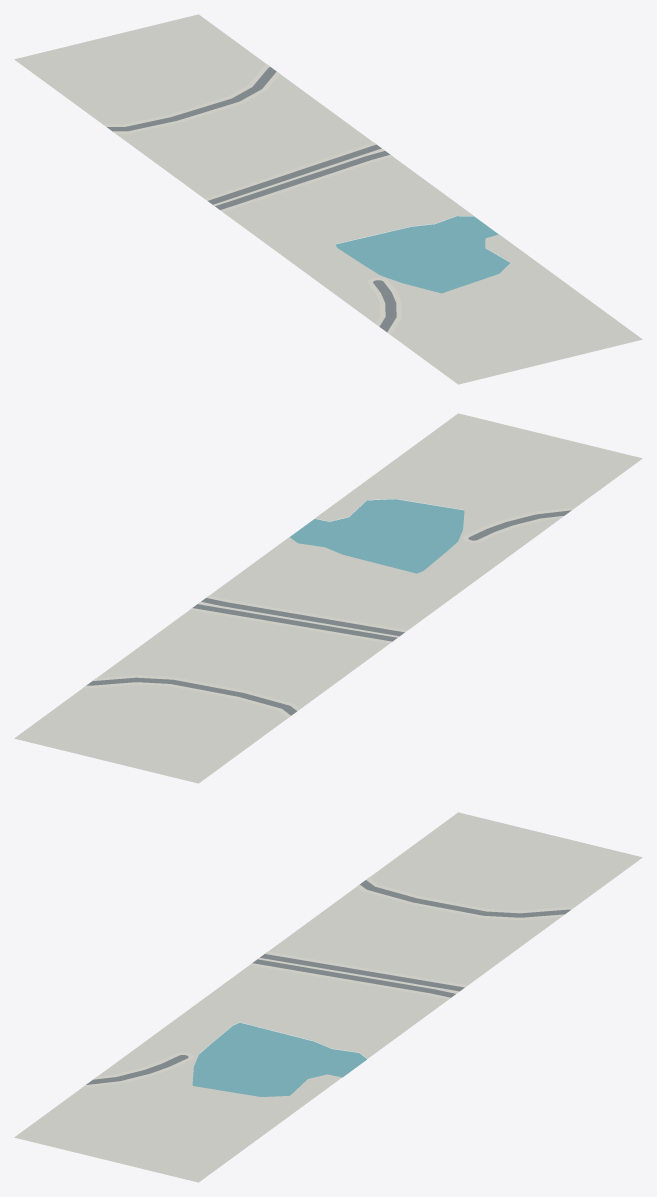
3 views of the same model, one above another, from view 1: azimuth 30°, elevation 25°; view 2: azimuth 150°, elevation 25°; view 3: azimuth 330°, elevation 25° (orthographic).
Parts seen in each view (by area): view 1: city; view 2: city; view 3: city.
Boxes of the visible parts, x1,y1,x2,y2 form: city: (14, 14, 642, 384); city: (14, 413, 642, 783); city: (14, 812, 642, 1182).
Size of the model in its own units: 120 by 0.4 by 500.
